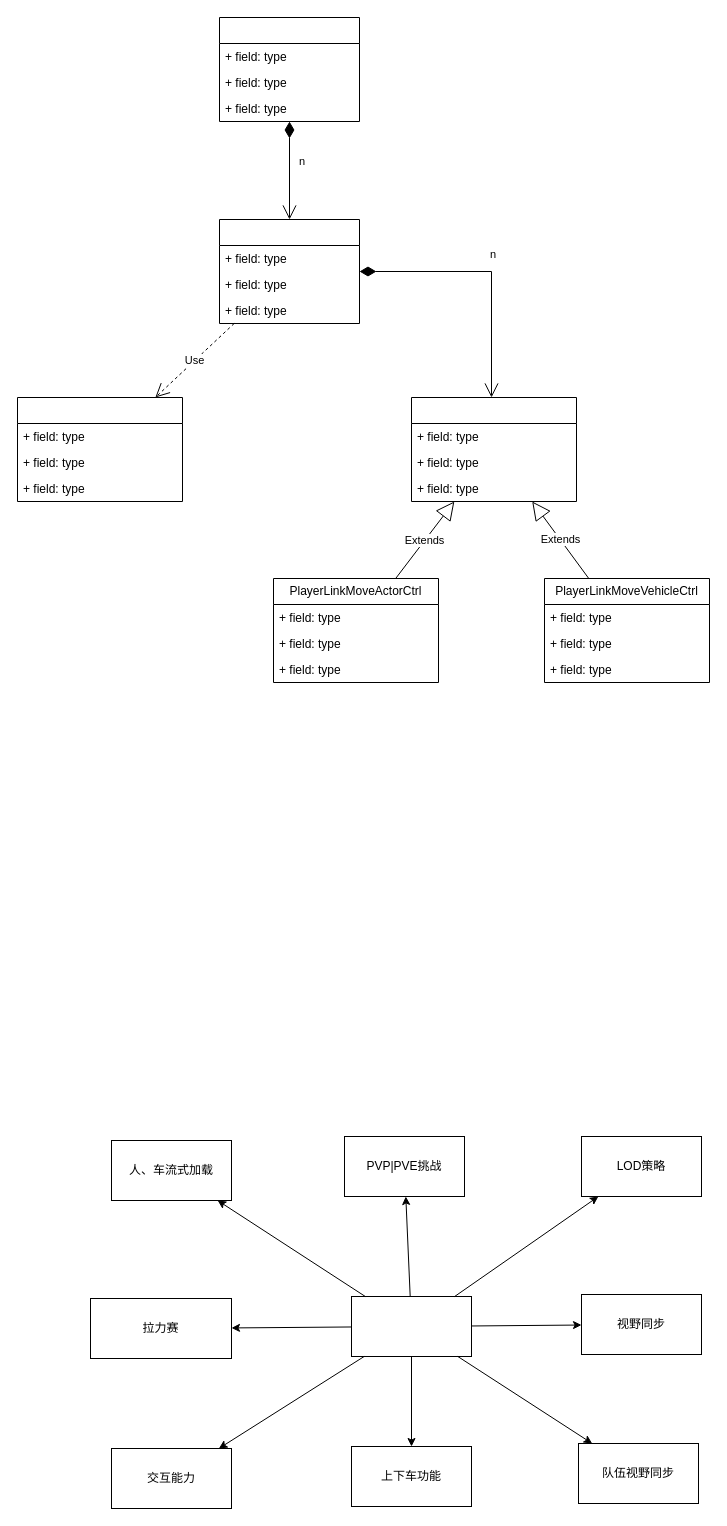
Image size: 727x1526. Some labels were removed from this diagram. The box of each missing label's shape, as (x1, y1, x2, y2) in pixels:
PlayerLinkCtrl: (218, 218, 360, 324)
PlayerLinkMgr: (218, 16, 360, 122)
PlayerLinkMoveBaseCtrl: (410, 396, 576, 502)
PlayerLinkTrackRecorder: (16, 396, 182, 502)
连接玩法: (350, 1296, 472, 1356)
